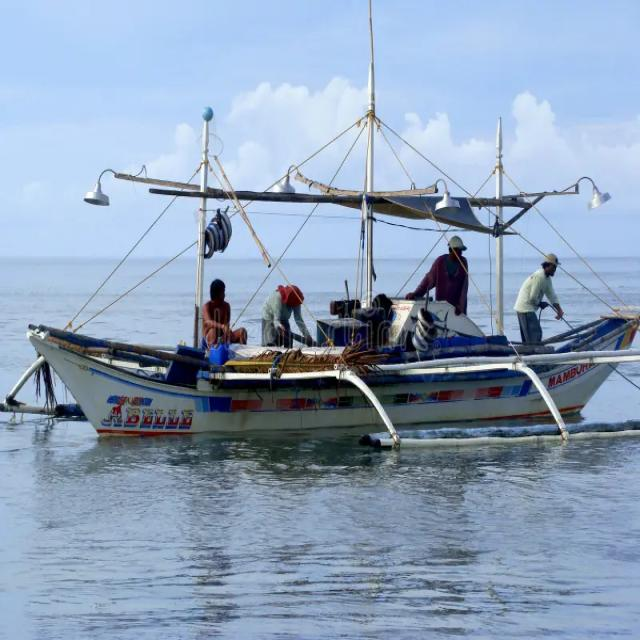Fishing Boat: (0, 135, 634, 479)
